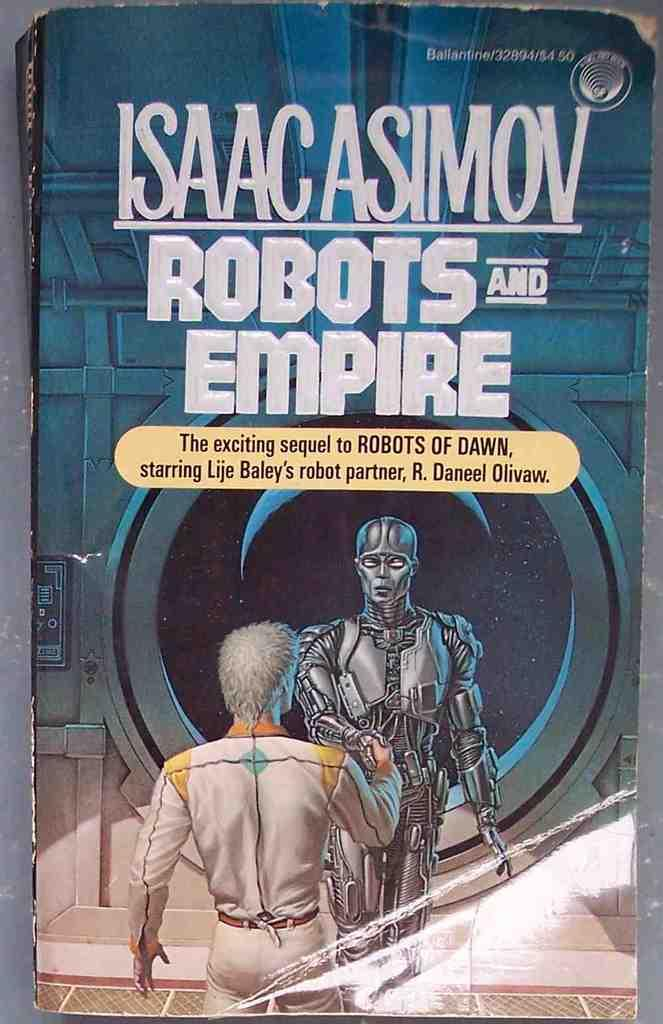book: (24, 15, 629, 982)
